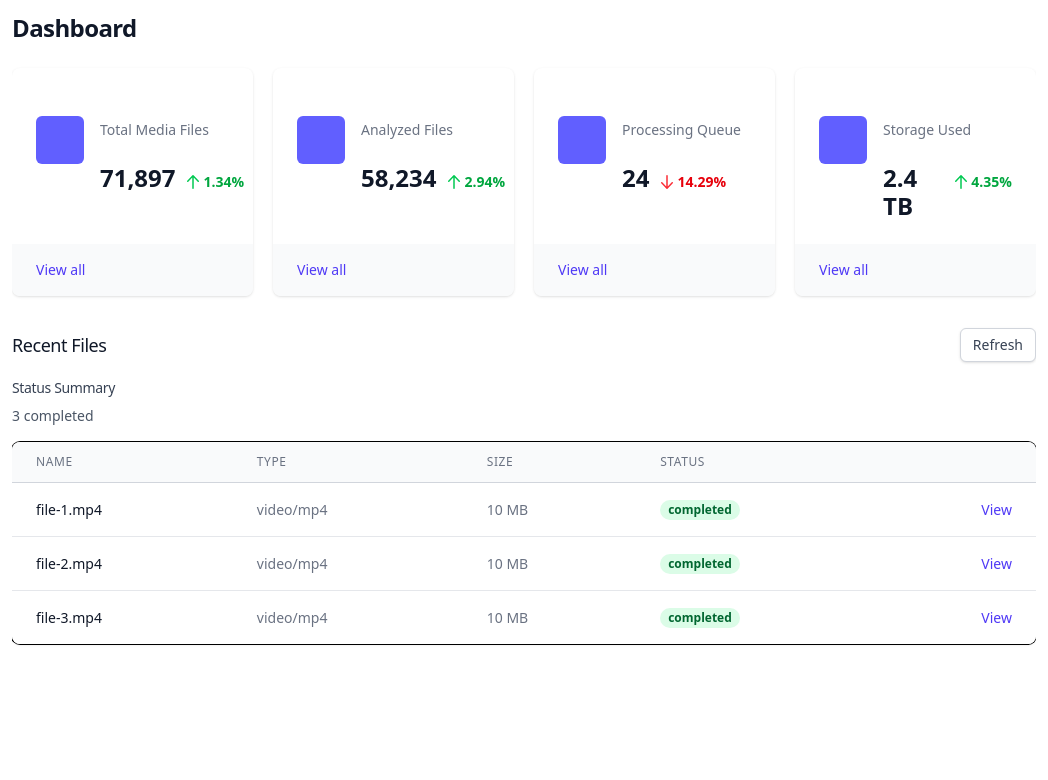
Scenario: HomePage › handles real-time updates via WebSocket
expect the heading "Recent Files" is shown: met, box [12, 331, 106, 359]
Simulate real-time update by clicking refresh (which triggers refetch)
Click the button "Refresh" at (998, 345), box [960, 328, 1036, 362]
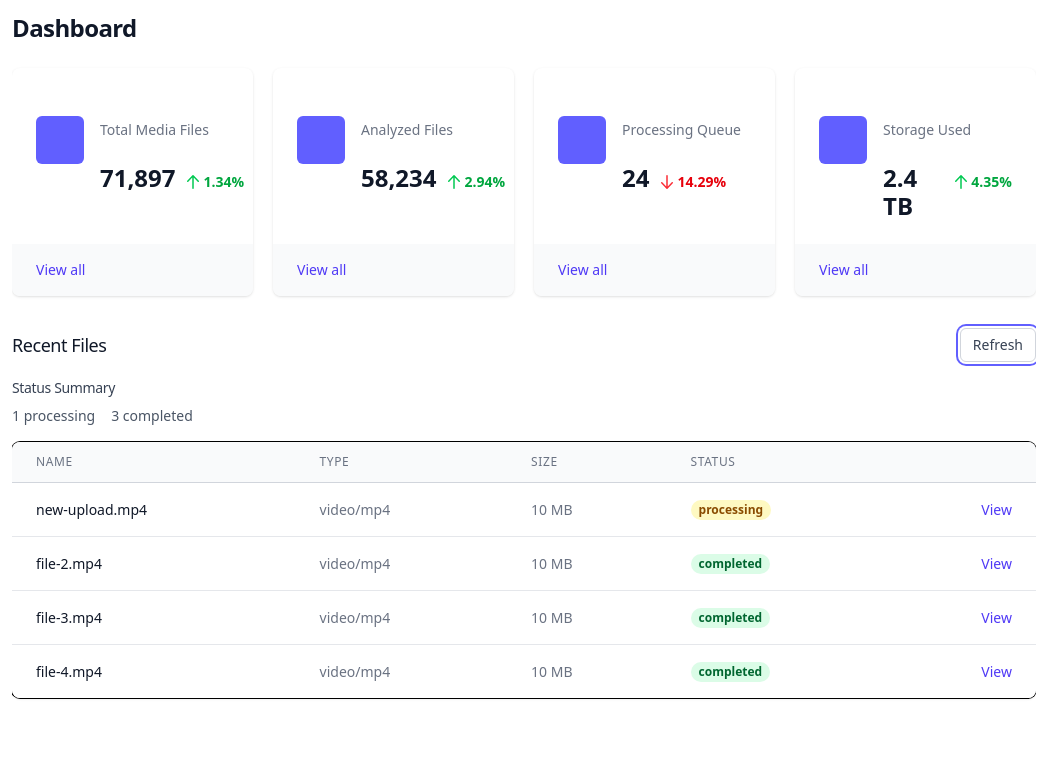
expect the text "new-upload.mp4" is shown: met, box [12, 482, 296, 536]
